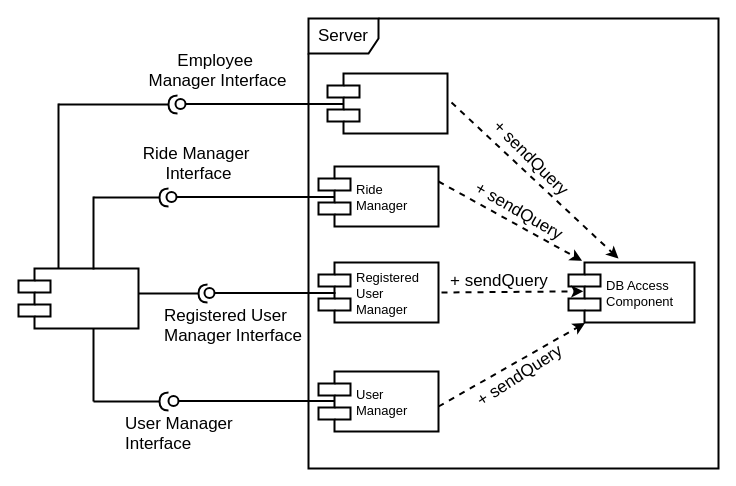
Some shapes in this 736 by 486 pixel diagram are drawn without their labels. The centre of each missing label's shape, as x and y in pixels:
"Client" belongs at point 78,298.
"Employee Manager" belongs at point 387,103.
